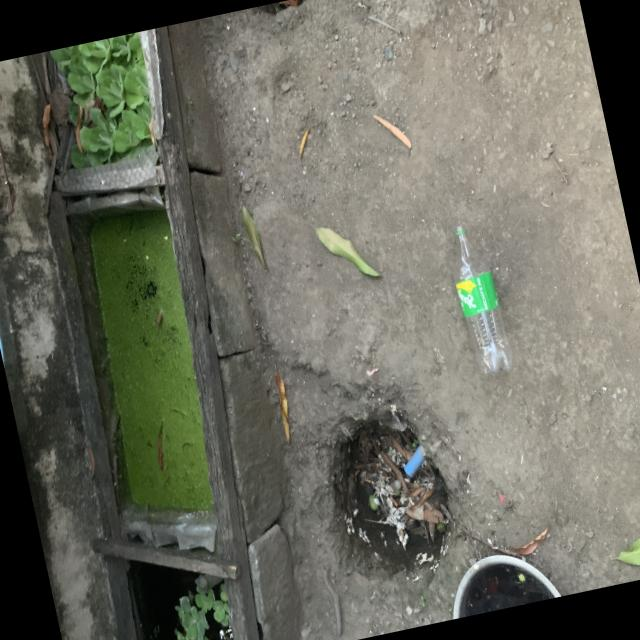Bottle: (455, 225, 510, 375)
